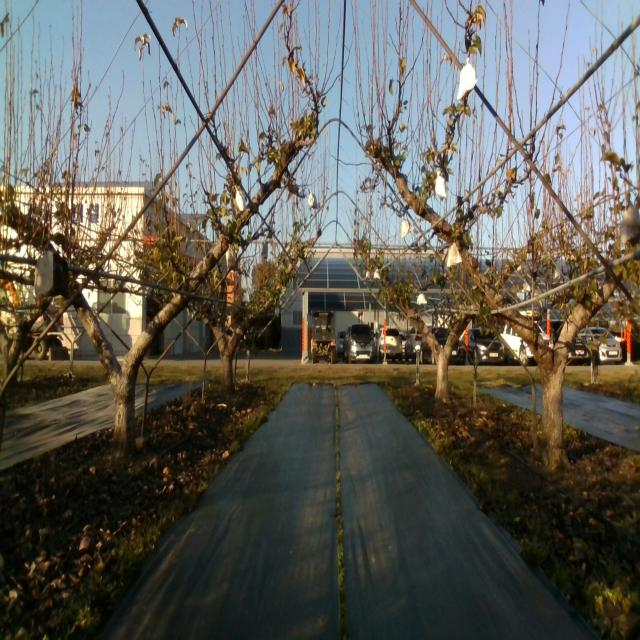pearbags: (619, 195, 640, 246), (456, 56, 478, 100), (446, 244, 462, 268), (435, 171, 446, 201), (235, 185, 246, 212), (225, 245, 236, 269), (401, 218, 414, 238)
